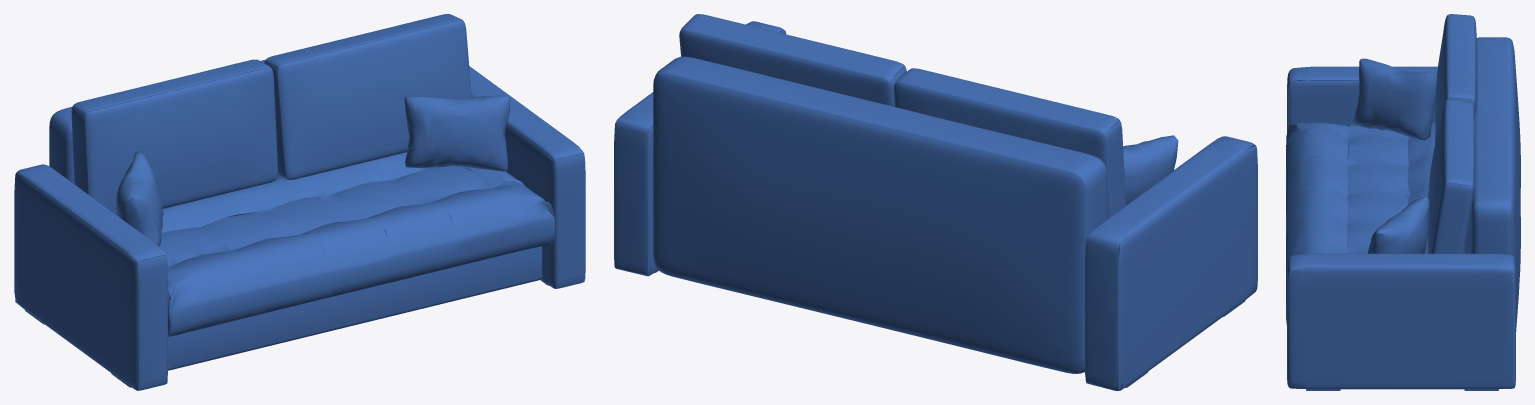
Rendered from Sofa.fbx.
The picture shows the model from 3 angles, left to right: view 1: azimuth 30°, elevation 25°; view 2: azimuth 150°, elevation 25°; view 3: azimuth 270°, elevation 25°; orthographic projection. The views are drawn at different scales.
Parts seen in each view (by area): view 1: Sofa; view 2: Sofa; view 3: Sofa.
Part boxes in pixels (bbox=[...]): Sofa: bbox=[14, 14, 585, 390]; Sofa: bbox=[614, 14, 1257, 390]; Sofa: bbox=[1286, 14, 1520, 390].
Bounding box in the file's own units: 187 × 84.58 × 91.91.
